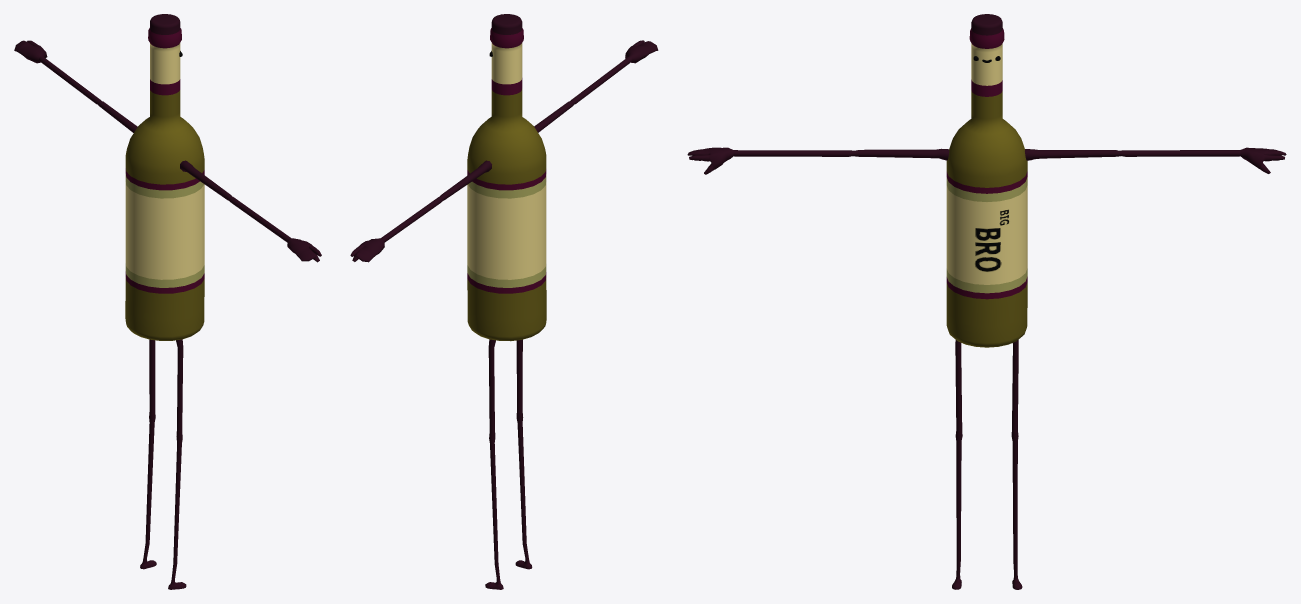
File: scene_7cNxDVi8bl.glb
The picture shows the model from 3 angles, left to right: view 1: azimuth 30°, elevation 25°; view 2: azimuth 150°, elevation 25°; view 3: azimuth 270°, elevation 25°; orthographic projection.
Parts seen in each view (by area): view 1: mesh_char_91b; view 2: mesh_char_91b; view 3: mesh_char_91b.
Part boxes in pixels (x1,y1,x2,y2): mesh_char_91b: [14, 14, 321, 589]; mesh_char_91b: [350, 14, 658, 589]; mesh_char_91b: [687, 14, 1286, 589].
Size of the model in its own units: 0.828 by 6.37 by 6.1.
1 material, 1 textured.
